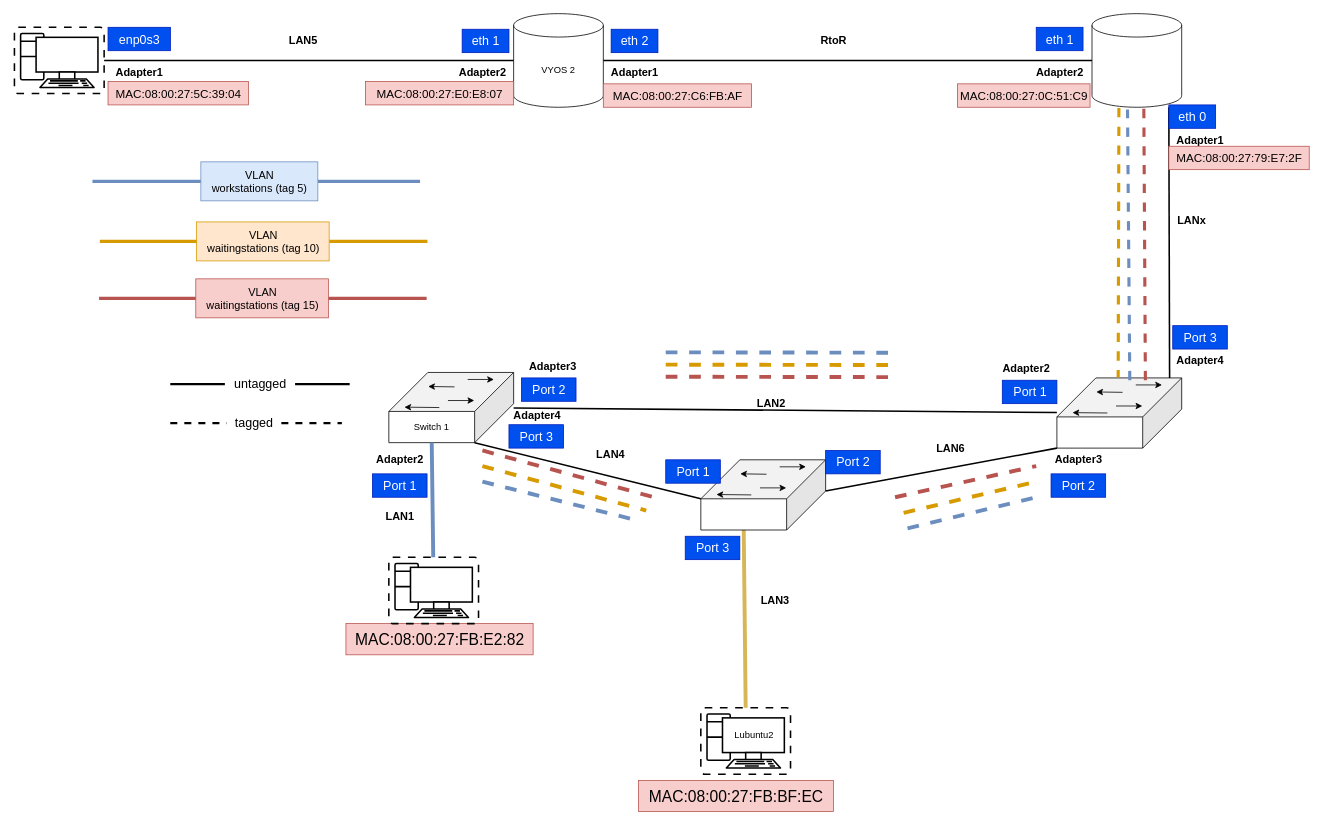
The diagram is 1323 pixels wide and 825 high, and some of its shapes have lost their labels. The centre of each missing label's shape, as x and y in pixels:
"Lubuntu1" goes at point (433, 590).
"Lubuntu3" goes at point (59, 60).
"Switch 2" goes at point (1119, 412).
"Switch 3" goes at point (763, 494).
"VYOS 1" goes at point (1136, 60).
